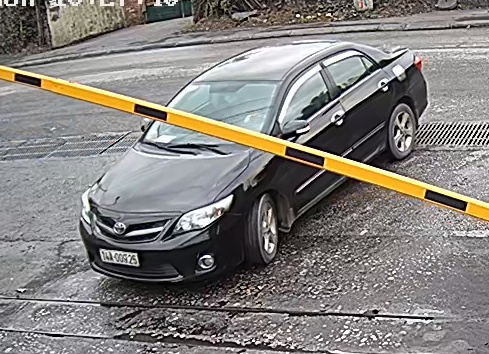vehicle plate: (94, 242, 141, 269)
